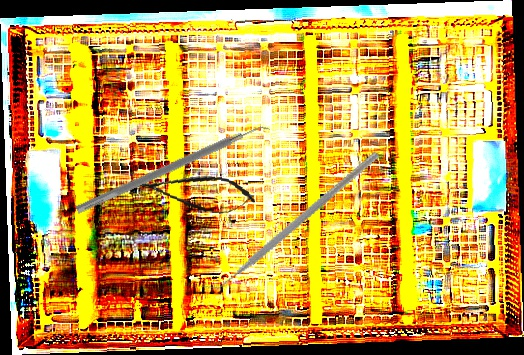Chopper: (198, 113, 381, 327)
Micro Scissor: (133, 165, 258, 220)
Spatula Surgical: (74, 117, 273, 223)
